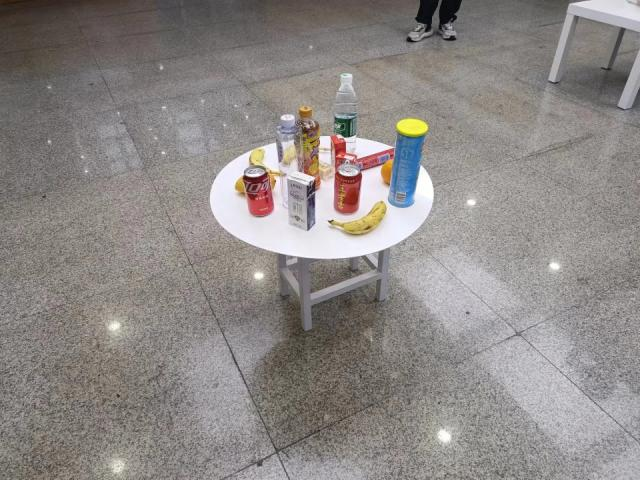Canned_drinks: (243, 164, 275, 217), (333, 164, 363, 215)
bottle: (276, 114, 305, 209), (333, 73, 358, 154)
cylinder: (388, 118, 427, 208)
drink_box: (287, 170, 316, 232), (335, 152, 357, 179), (330, 134, 346, 166)
